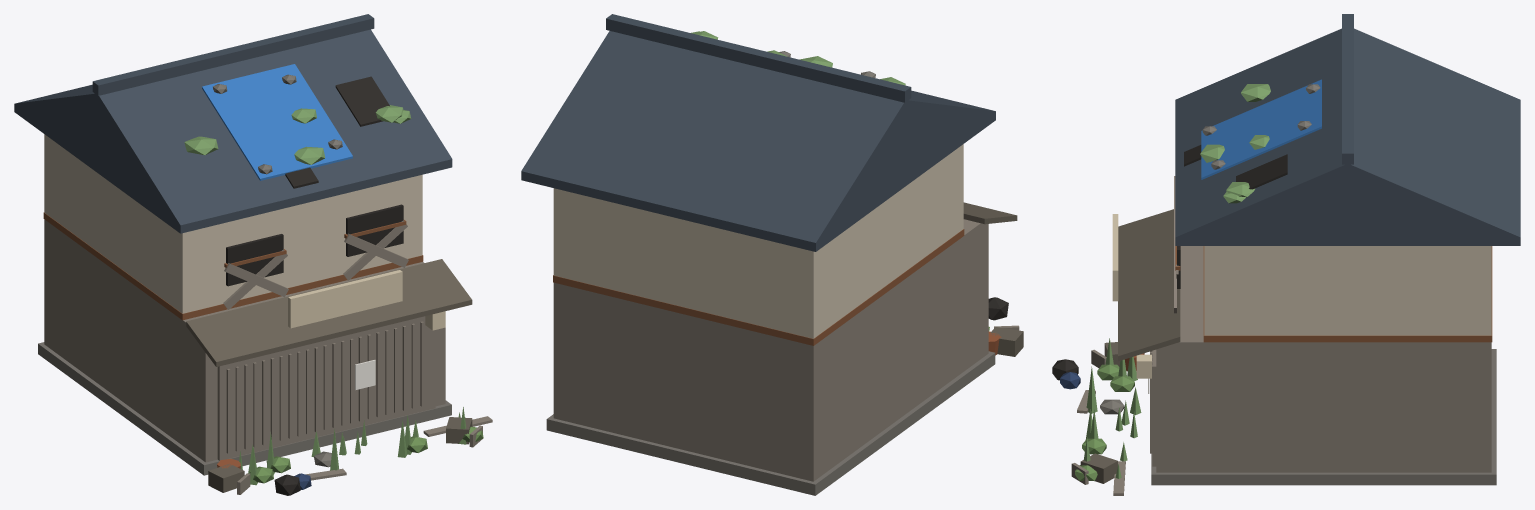
The model's file is chizurudo_s0.fbx.
The picture shows the model from 3 angles, left to right: view 1: azimuth 30°, elevation 25°; view 2: azimuth 150°, elevation 25°; view 3: azimuth 270°, elevation 25°; orthographic projection. The views are drawn at different scales.
Parts seen in each view (by area): view 1: chizurudo_s0; view 2: chizurudo_s0; view 3: chizurudo_s0.
Boxes of the visible parts, bbox=[...] form: chizurudo_s0: bbox=[14, 14, 492, 495]; chizurudo_s0: bbox=[521, 14, 1023, 495]; chizurudo_s0: bbox=[1052, 14, 1520, 495].
Bounding box in the file's own units: 7.11 × 7.83 × 9.77.
Materials: 1 (1 with a texture image).
